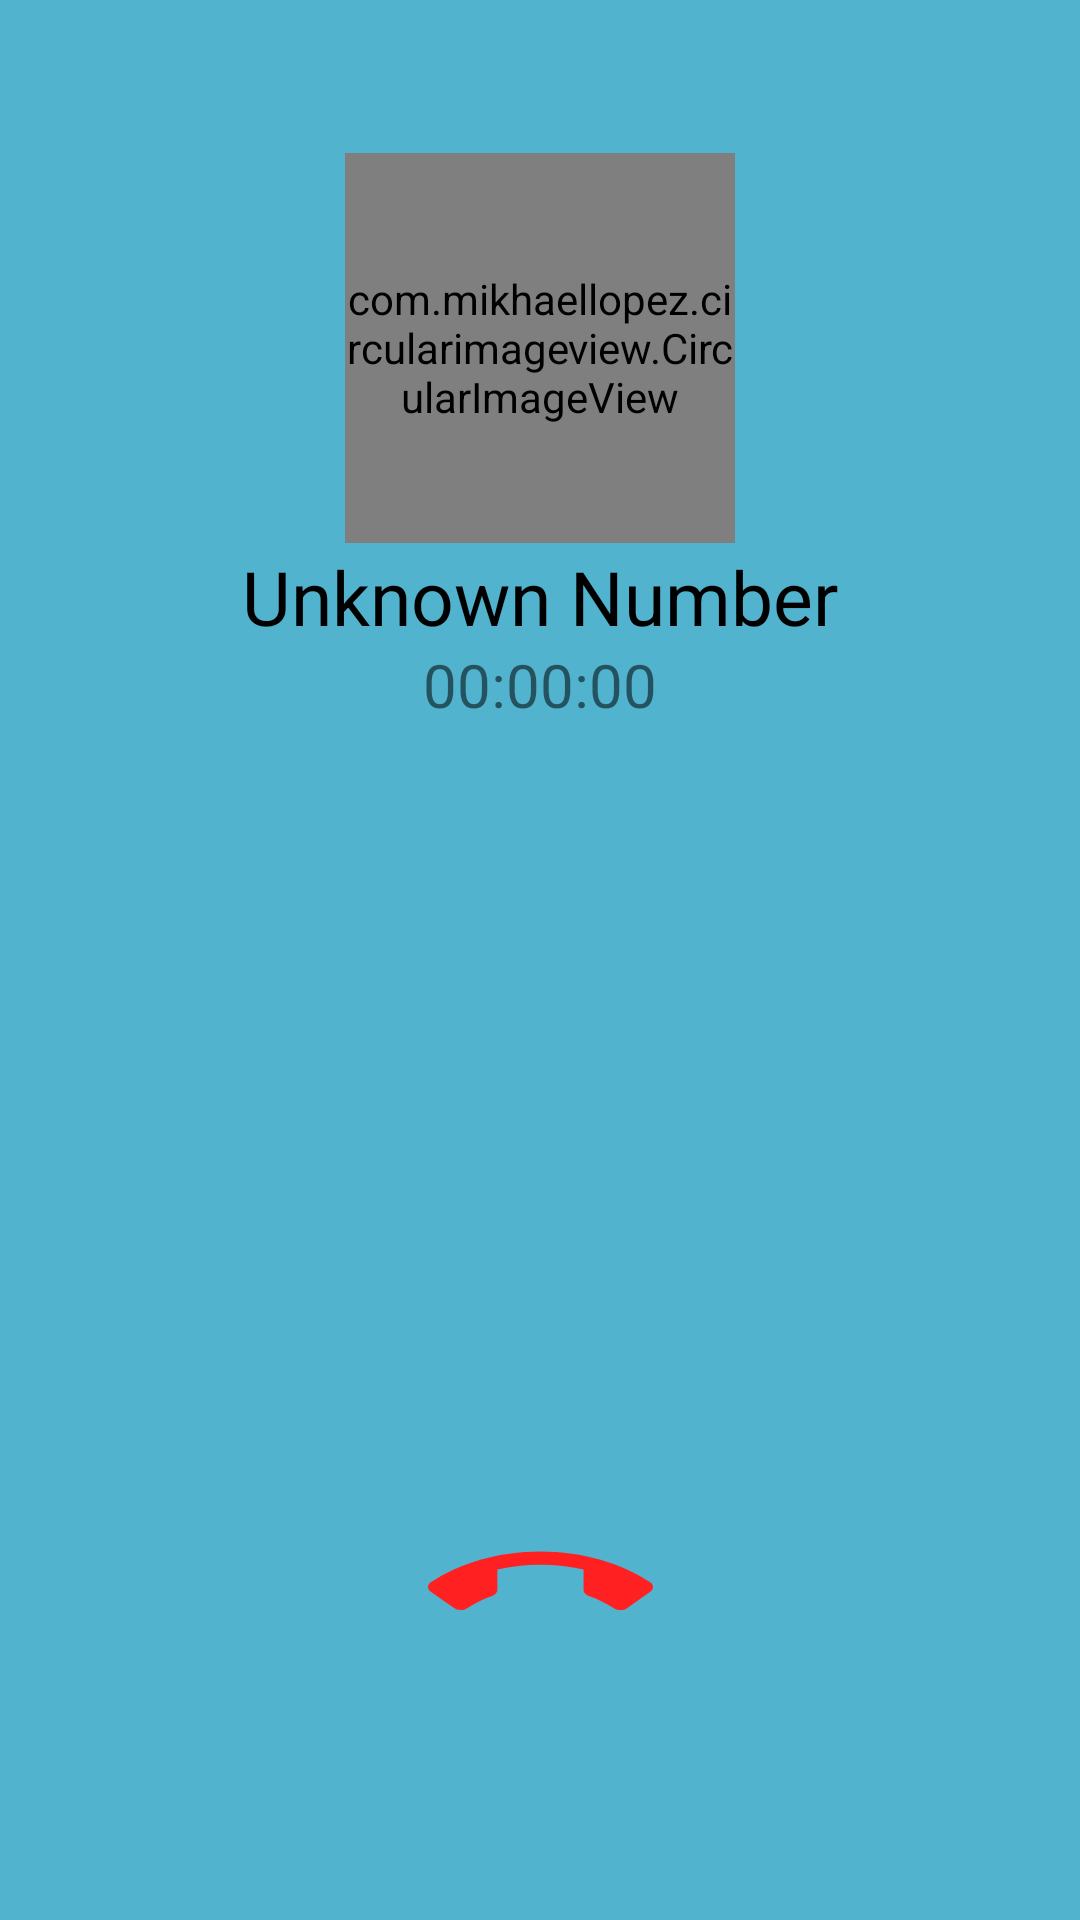

Icons on this 1080x1920 Android screen, each with its box as (x1, y1, x2, y2):
end call: (428, 1551, 653, 1610)
